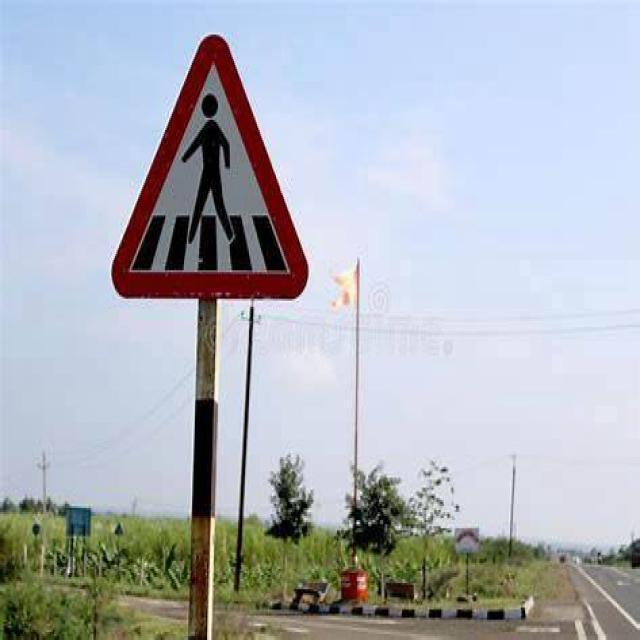pedestrian crossing: (107, 32, 314, 303)
